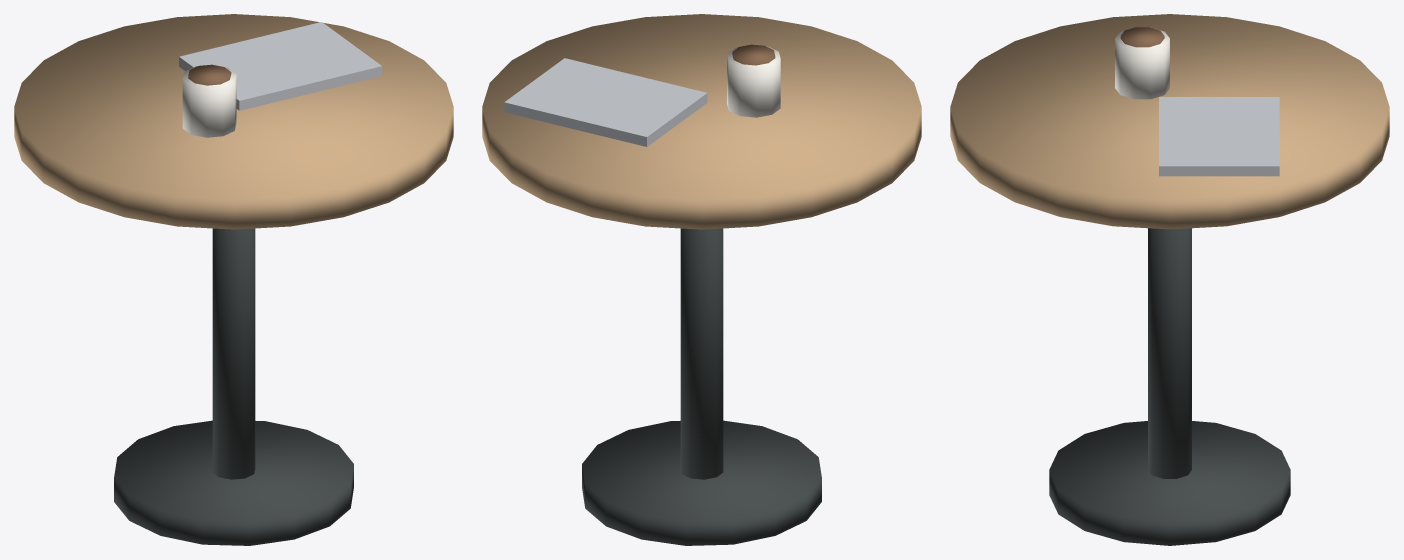
The model's file is cafe-table.glb.
3 views of the same model, side by side, from view 1: azimuth 30°, elevation 25°; view 2: azimuth 150°, elevation 25°; view 3: azimuth 270°, elevation 25° (orthographic).
Parts seen in each view (by area): view 1: cafe-table; view 2: cafe-table; view 3: cafe-table.
Boxes of the visible parts, x1,y1,x2,y2 form: cafe-table: [14, 14, 453, 545]; cafe-table: [482, 14, 921, 545]; cafe-table: [950, 14, 1389, 545].
Bounding box in the file's own units: 0.8 × 0.885 × 0.8.
